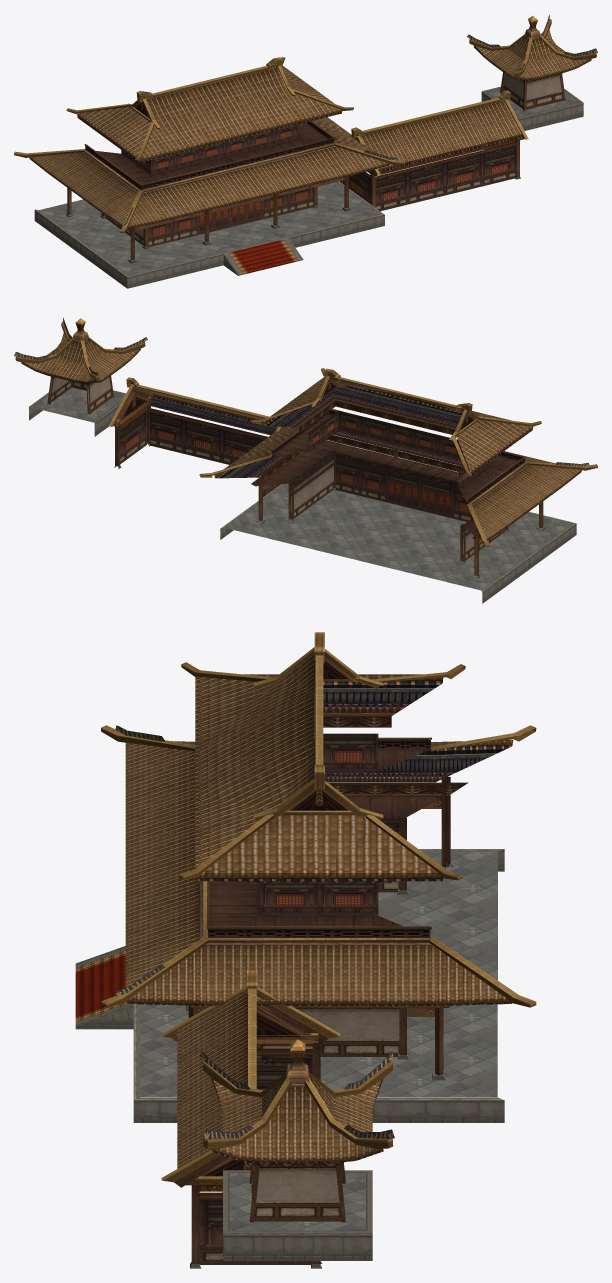
Rendered from s7_jianzhu_huanggong001.FBX.
3 renders of one model, top to bottom at view 1: azimuth 30°, elevation 25°; view 2: azimuth 150°, elevation 25°; view 3: azimuth 270°, elevation 25°, orthographic. The views are drawn at different scales.
Parts seen in each view (by area): view 1: s7_jianzhu_huangong001, s7_jianzhu_huangong003, objs7_3d_jz_guanfu_05, s7_jianzhu_huangong002, objs7_3d_jz_guanfu_006; view 2: s7_jianzhu_huangong001, objs7_3d_jz_guanfu_05, s7_jianzhu_huangong003, s7_jianzhu_huangong002, objs7_3d_jz_guanfu_006; view 3: s7_jianzhu_huangong001, s7_jianzhu_huangong002, objs7_3d_jz_guanfu_05, s7_jianzhu_huangong003, objs7_3d_jz_guanfu_006.
Boxes of the visible parts, box(x1,y1,x2,y2) form: s7_jianzhu_huangong001: box(14, 57, 405, 288); s7_jianzhu_huangong003: box(340, 90, 528, 211); objs7_3d_jz_guanfu_05: box(39, 182, 379, 275); s7_jianzhu_huangong002: box(467, 15, 597, 130); objs7_3d_jz_guanfu_006: box(486, 88, 578, 116); s7_jianzhu_huangong001: box(199, 368, 597, 603); objs7_3d_jz_guanfu_05: box(226, 483, 571, 590); s7_jianzhu_huangong003: box(109, 377, 291, 496); s7_jianzhu_huangong002: box(14, 317, 147, 436); objs7_3d_jz_guanfu_006: box(34, 387, 124, 420); s7_jianzhu_huangong001: box(75, 632, 536, 1122); s7_jianzhu_huangong002: box(200, 1039, 394, 1260); objs7_3d_jz_guanfu_05: box(140, 852, 497, 1097); s7_jianzhu_huangong003: box(161, 970, 340, 1268); objs7_3d_jz_guanfu_006: box(229, 1173, 365, 1230).
Size of the model in its own units: 59.42 by 16.74 by 23.6.
